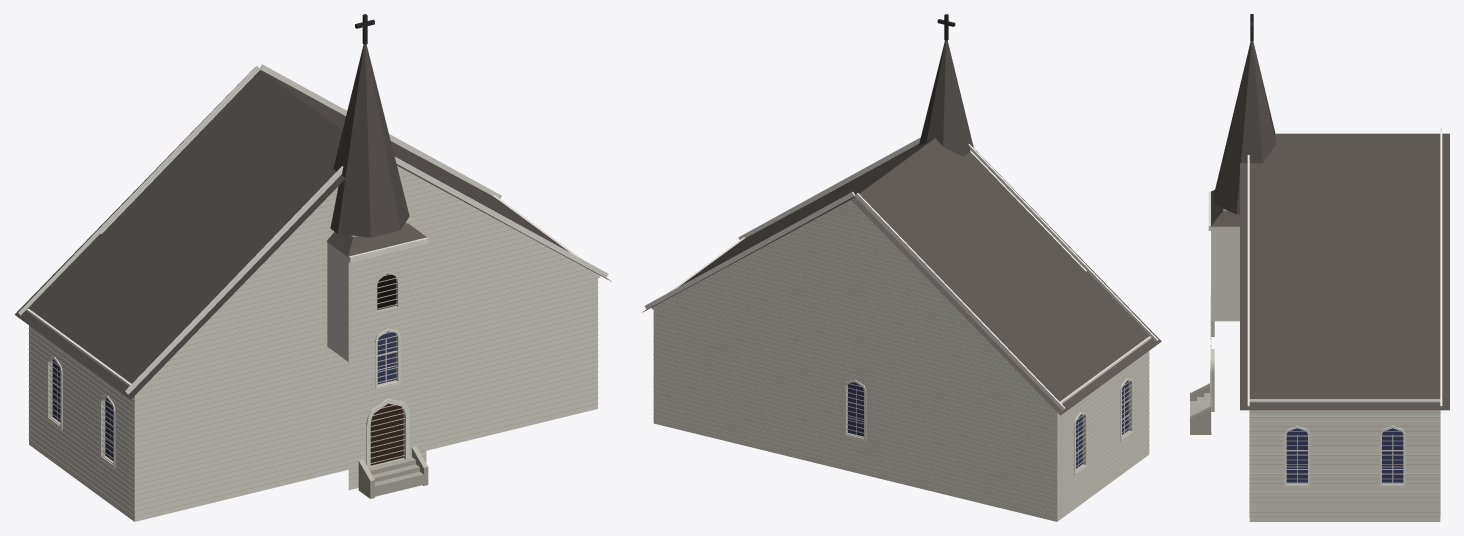
Rendered from ch-catholic-church-argenta-1913.glb.
3 renders of one model, left to right at view 1: azimuth 30°, elevation 25°; view 2: azimuth 150°, elevation 25°; view 3: azimuth 270°, elevation 25°, orthographic. The views are drawn at different scales.
Parts seen in each view (by area): view 1: ch_brick, ch_roof, ch_brick2, ch_roof2, ch_trim, ch_conc, ch_stain, ch_door; view 2: ch_brick, ch_roof, ch_brick2, ch_trim, ch_roof2, ch_stain; view 3: ch_roof, ch_brick, ch_brick2, ch_roof2, ch_trim, ch_stain, ch_conc.
Part boxes in pixels (x1,y1,x2,y2): ch_brick: [29, 166, 597, 521]; ch_roof: [14, 67, 611, 399]; ch_brick2: [28, 99, 598, 516]; ch_roof2: [326, 44, 427, 257]; ch_trim: [18, 64, 608, 468]; ch_conc: [358, 446, 428, 498]; ch_stain: [52, 331, 395, 460]; ch_door: [370, 403, 403, 465]; ch_brick: [653, 200, 1149, 521]; ch_roof: [642, 138, 1161, 415]; ch_brick2: [653, 153, 1149, 517]; ch_trim: [644, 137, 1158, 475]; ch_roof2: [918, 40, 973, 156]; ch_stain: [848, 381, 1128, 468]; ch_roof: [1240, 133, 1449, 410]; ch_brick: [1211, 209, 1440, 521]; ch_brick2: [1211, 231, 1440, 517]; ch_roof2: [1210, 41, 1275, 226]; ch_trim: [1208, 128, 1442, 486]; ch_stain: [1286, 428, 1403, 482]; ch_conc: [1190, 383, 1211, 434].
Bounding box in the file's own units: 21.08 × 18.85 × 10.9.
